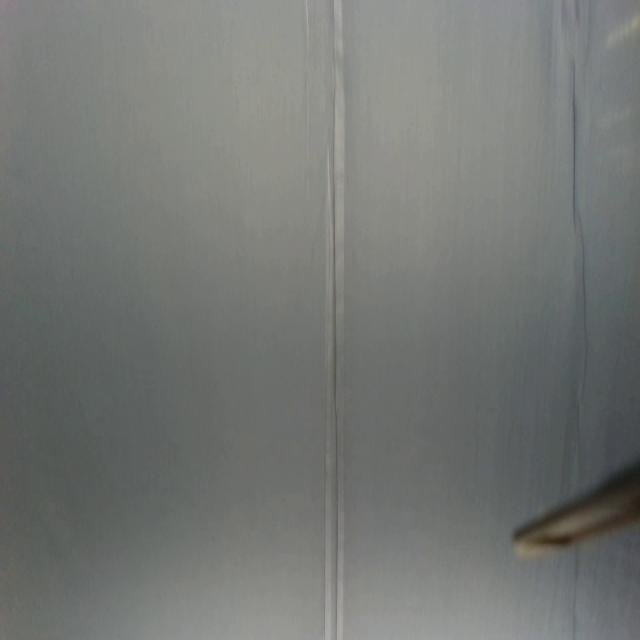crease: (326, 0, 346, 640), (569, 54, 593, 404), (302, 0, 312, 216)
